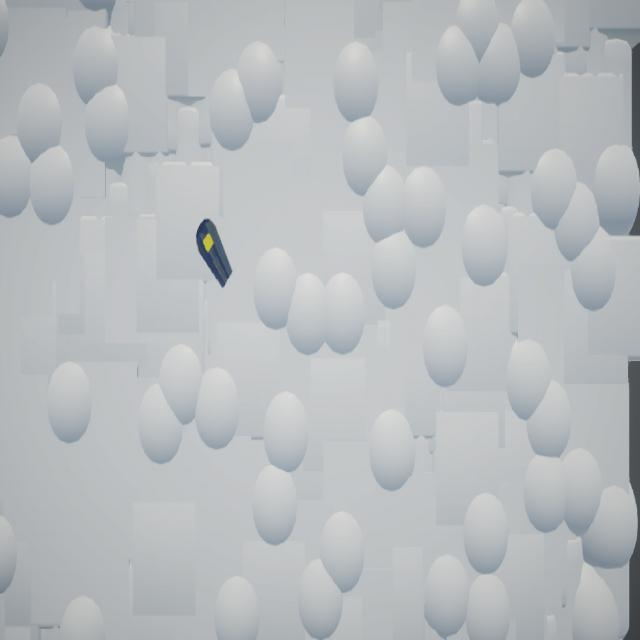handle_folk: (197, 220, 234, 290)
